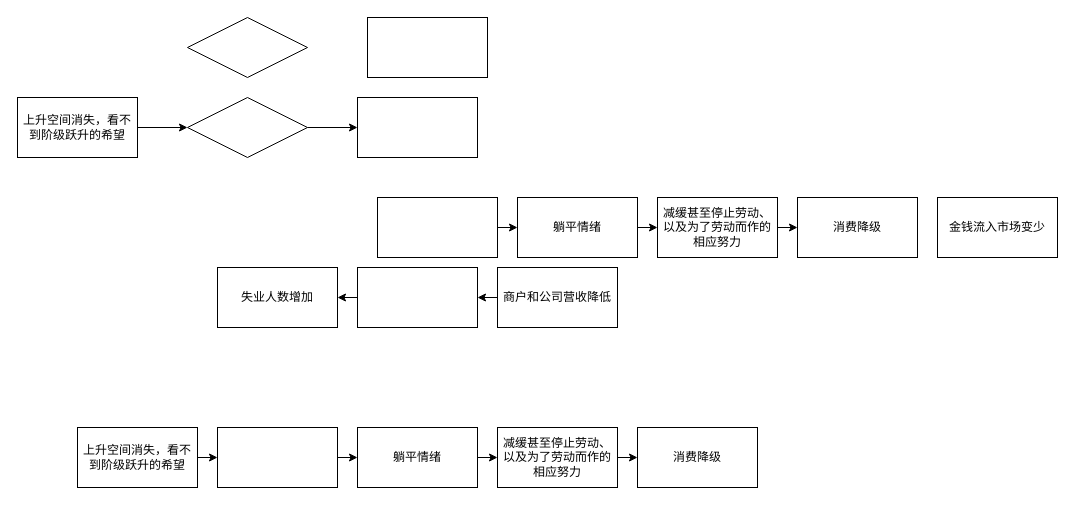
Image size: 1075x505. Some labels were removed from this diagram. The centre of each missing label's shape, as x and y in pixels:
工作的虚无化: [277,457]
民营企业降本增效: [417,297]
白领工作的虚无化: [437,227]
阶层/工作: [247,127]
